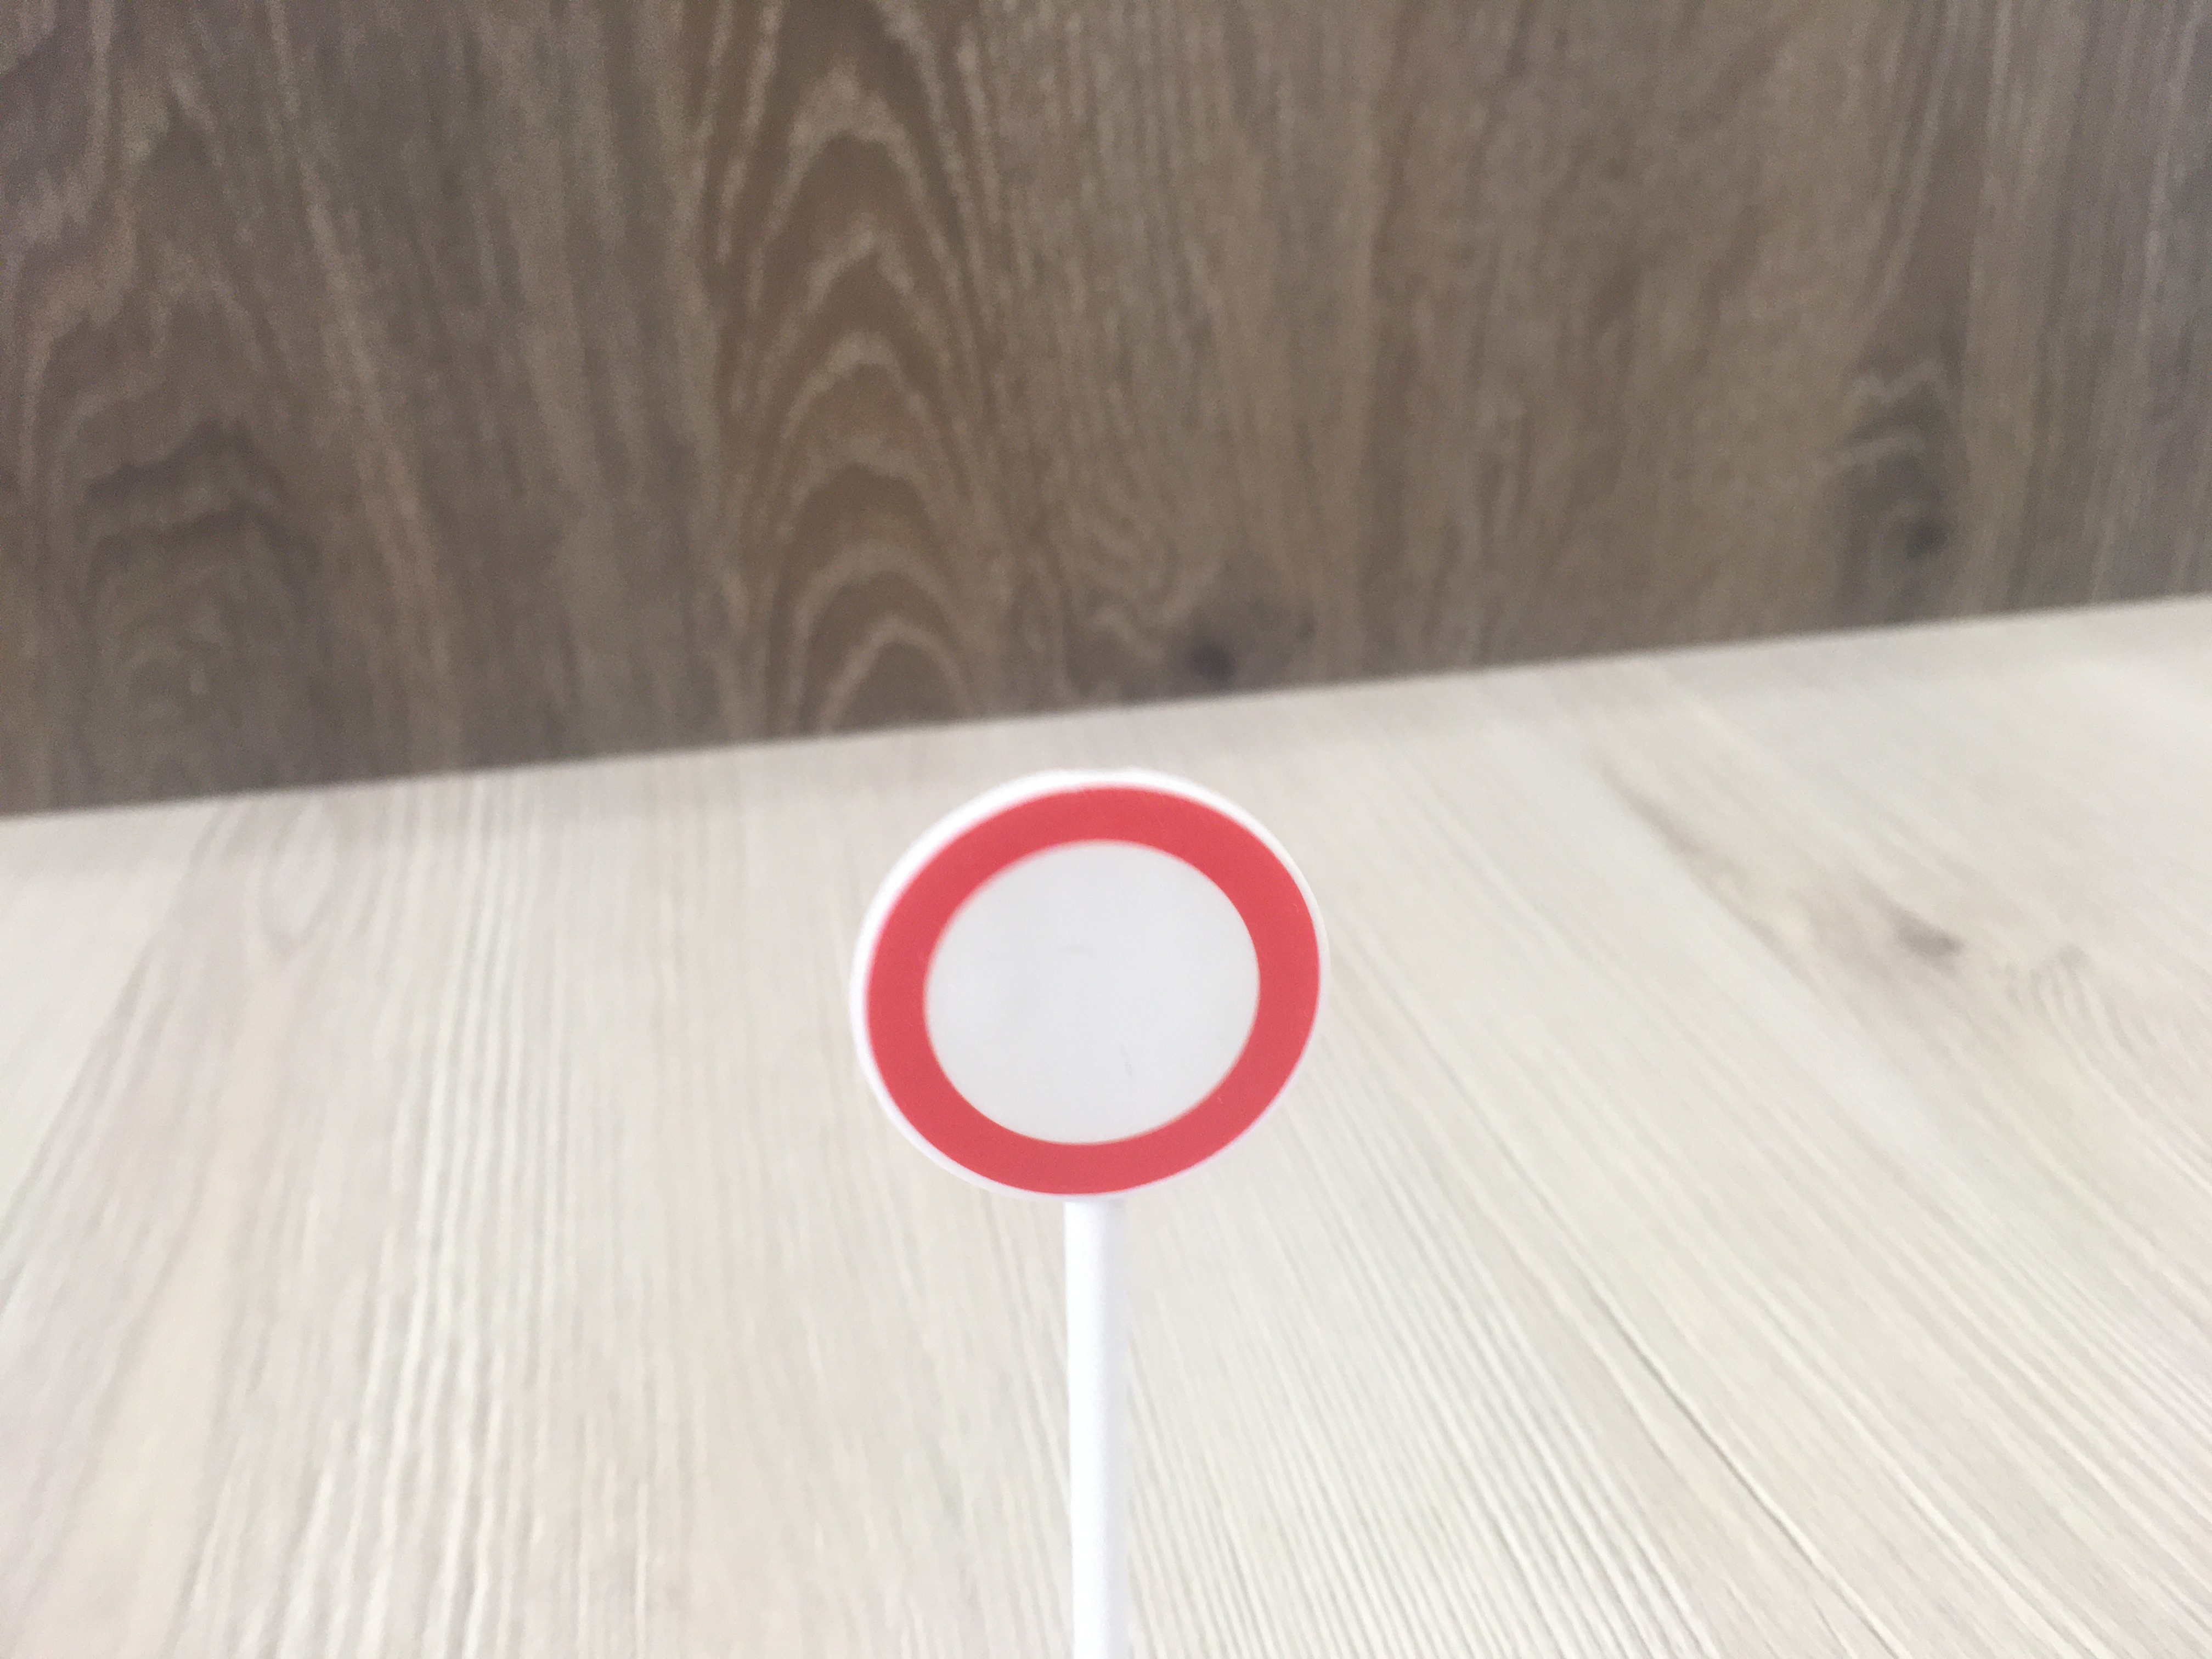noDrive: (848, 775, 1341, 1208)
